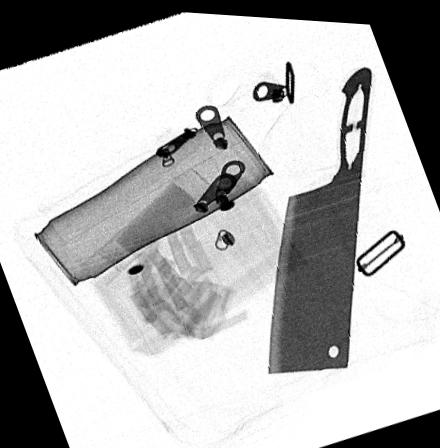Knife: (265, 59, 372, 370)
